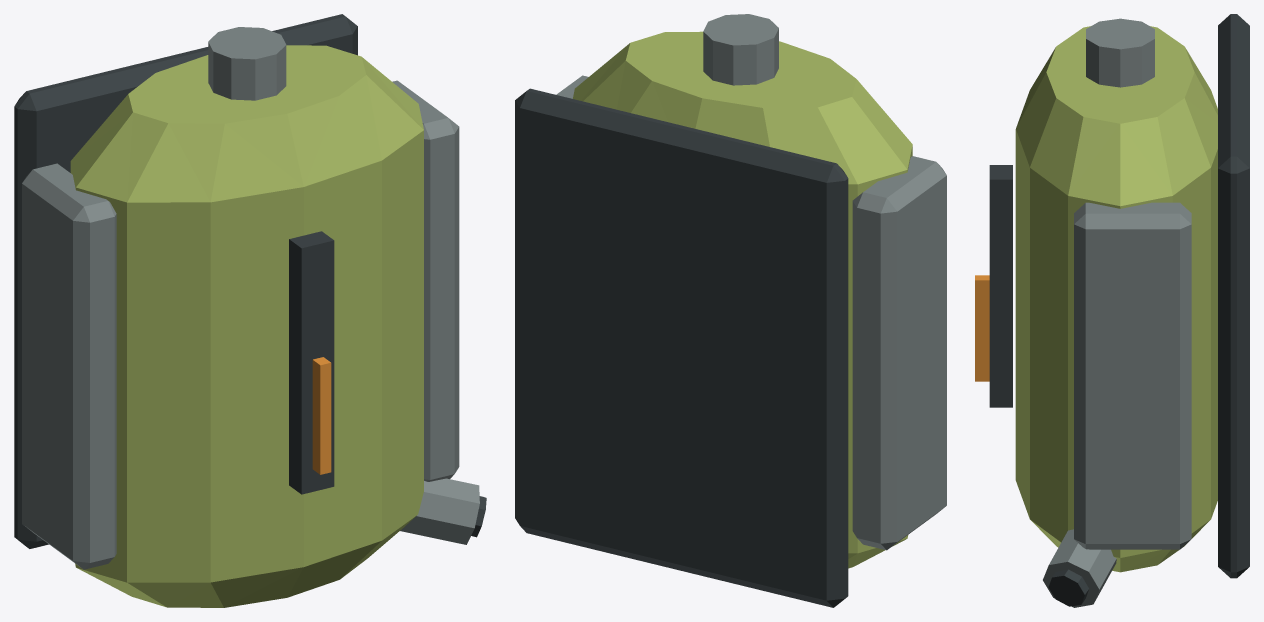
The model's file is person_pack_tox.obj.
The picture shows the model from 3 angles, left to right: view 1: azimuth 30°, elevation 25°; view 2: azimuth 150°, elevation 25°; view 3: azimuth 270°, elevation 25°; orthographic projection. The views are drawn at different scales.
Parts seen in each view (by area): view 1: person_pack_tox; view 2: person_pack_tox; view 3: person_pack_tox.
Boxes of the visible parts, bbox=[...] form: person_pack_tox: bbox=[14, 14, 486, 607]; person_pack_tox: bbox=[515, 14, 946, 607]; person_pack_tox: bbox=[975, 14, 1249, 607].
Size of the model in its own units: 0.299 by 0.3711 by 0.189.
